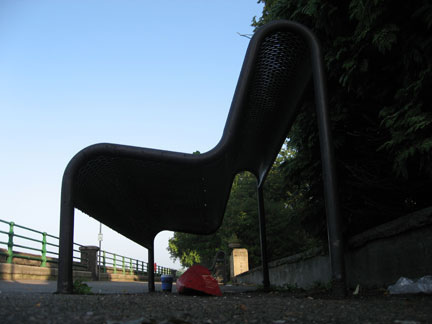litter: (176, 268, 222, 299), (386, 275, 432, 293), (160, 271, 173, 293)
